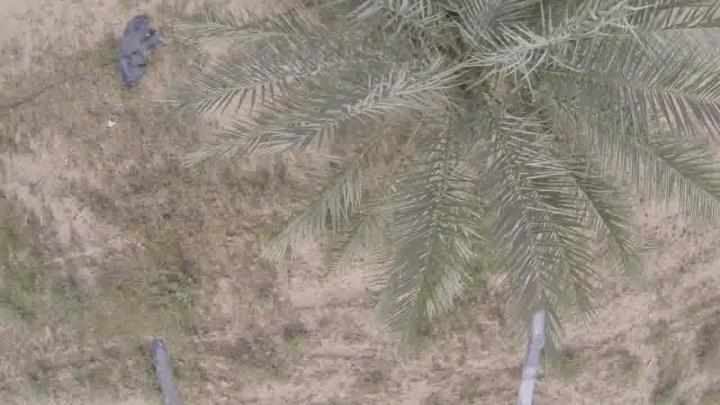Date-Palm-Crown: (362, 1, 674, 194)
